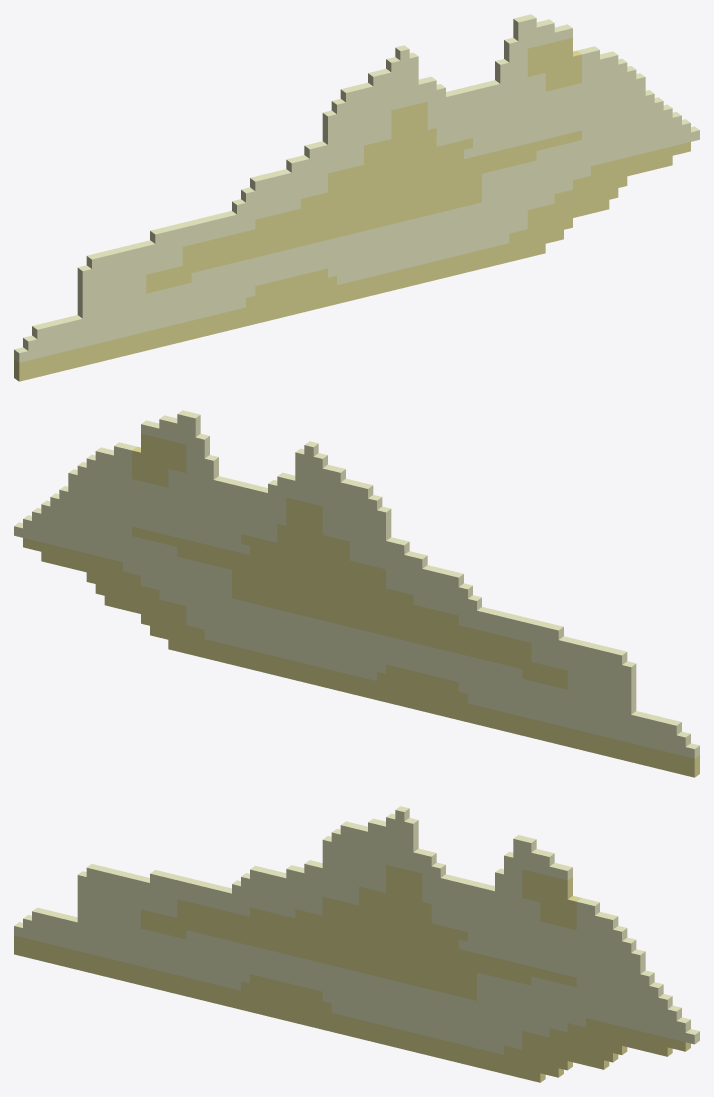
File: yun1.obj
3 renders of one model, top to bottom at view 1: azimuth 30°, elevation 25°; view 2: azimuth 150°, elevation 25°; view 3: azimuth 330°, elevation 25°, orthographic.
Bounding box in the file's own units: 75 × 25 × 1.
Materials: 1 (1 with a texture image).
